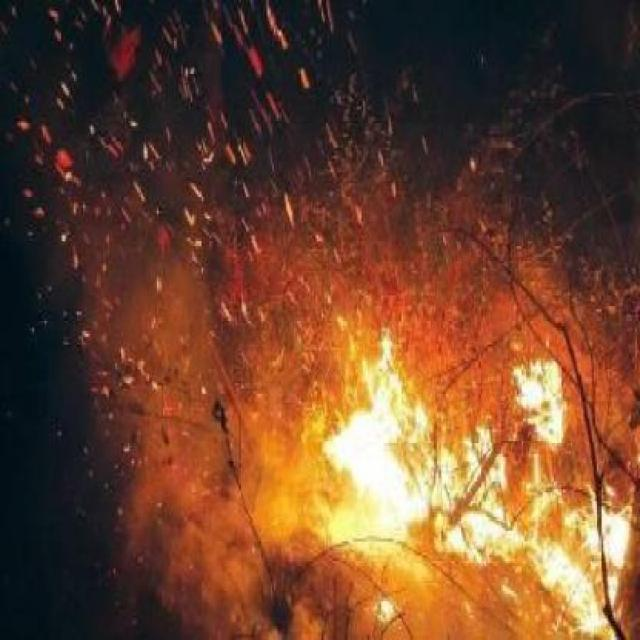Fire: (306, 312, 626, 630)
